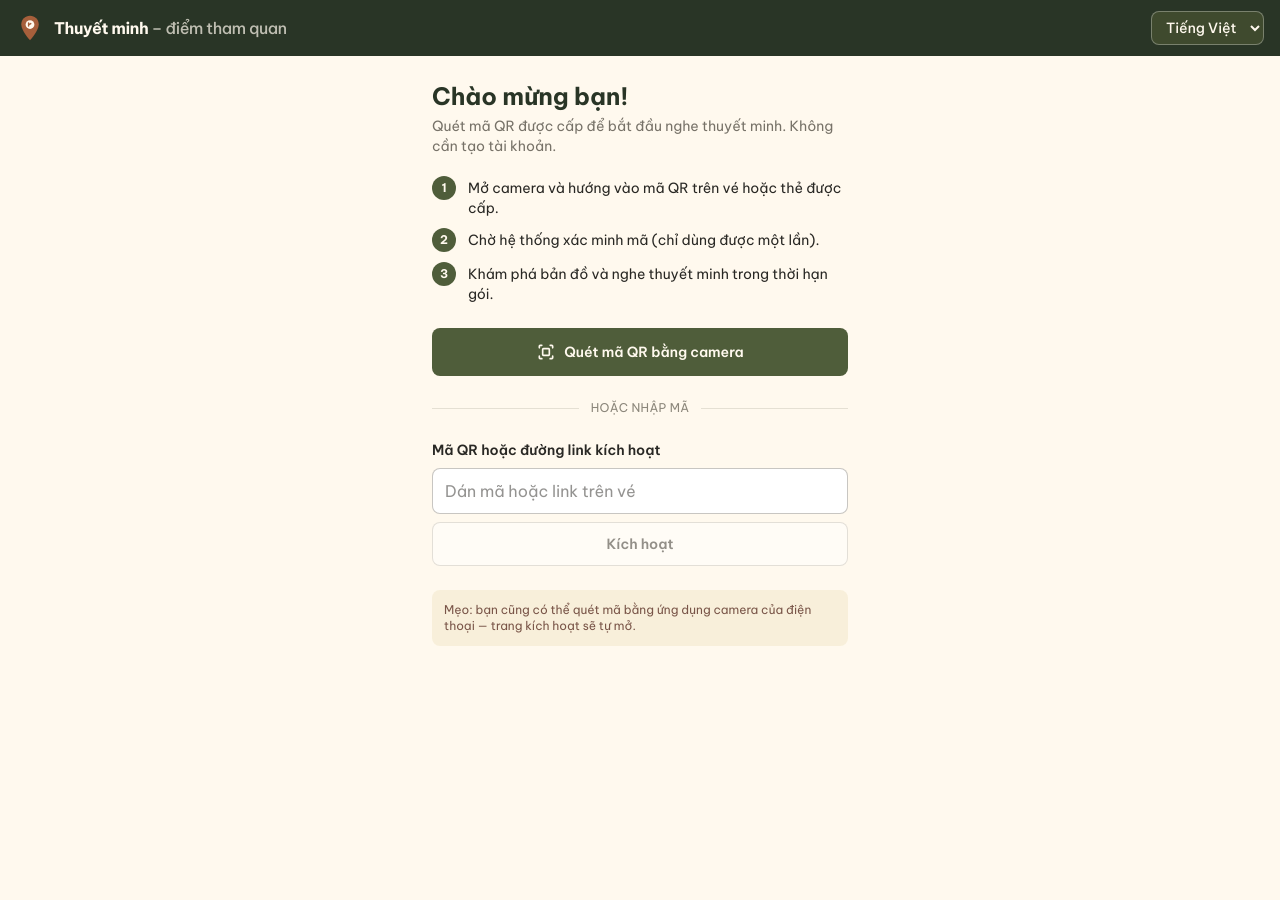
Activation (UC02 steps 3–5) › the header countdown starts at activation, not when the scan screen was opened
Type "DEMO-QR-0003" into the field labelled "Mã QR hoặc đường link kích hoạt" at (640, 491), box [432,468,848,514]
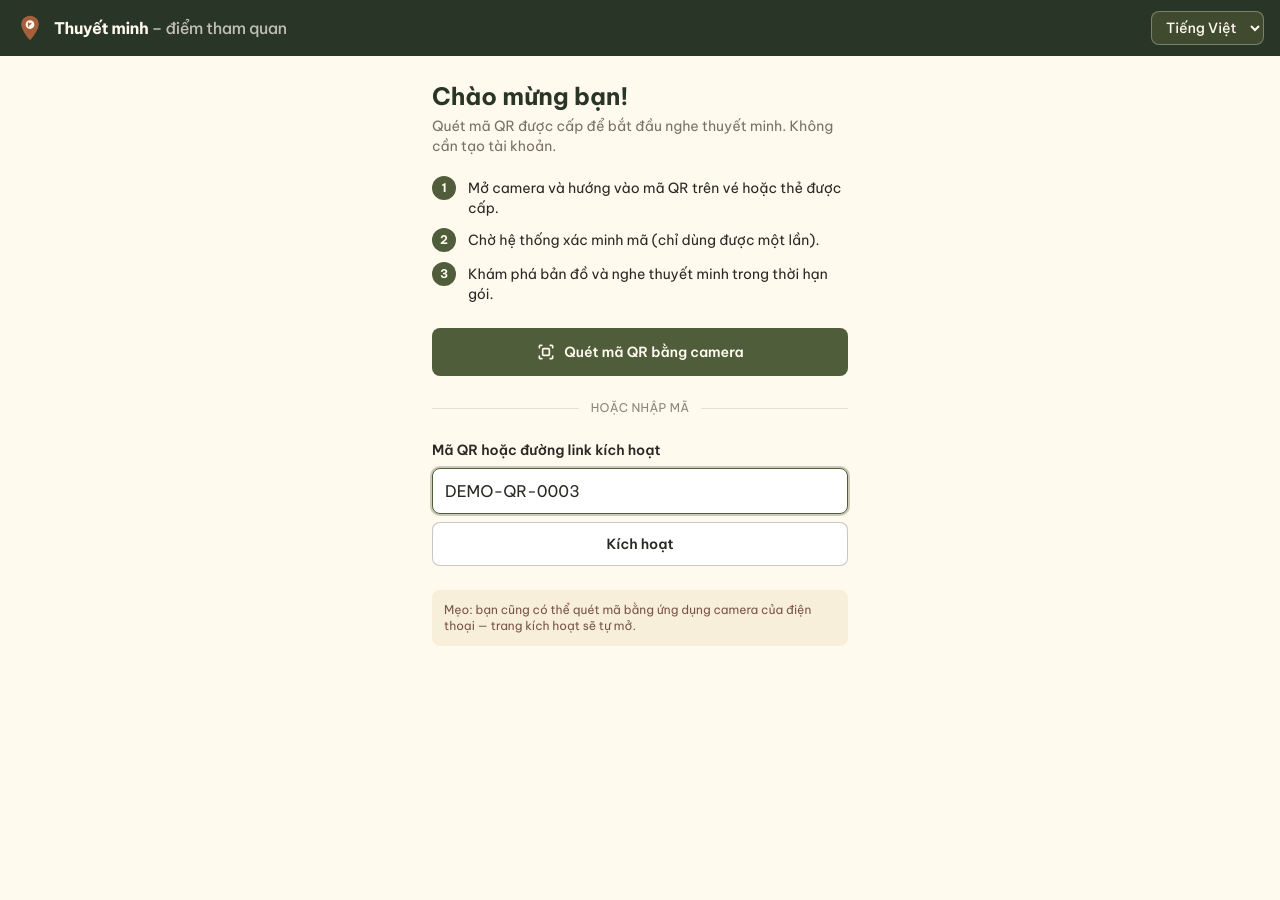
Click the button "Kích hoạt" at (640, 544), box [432,522,848,566]
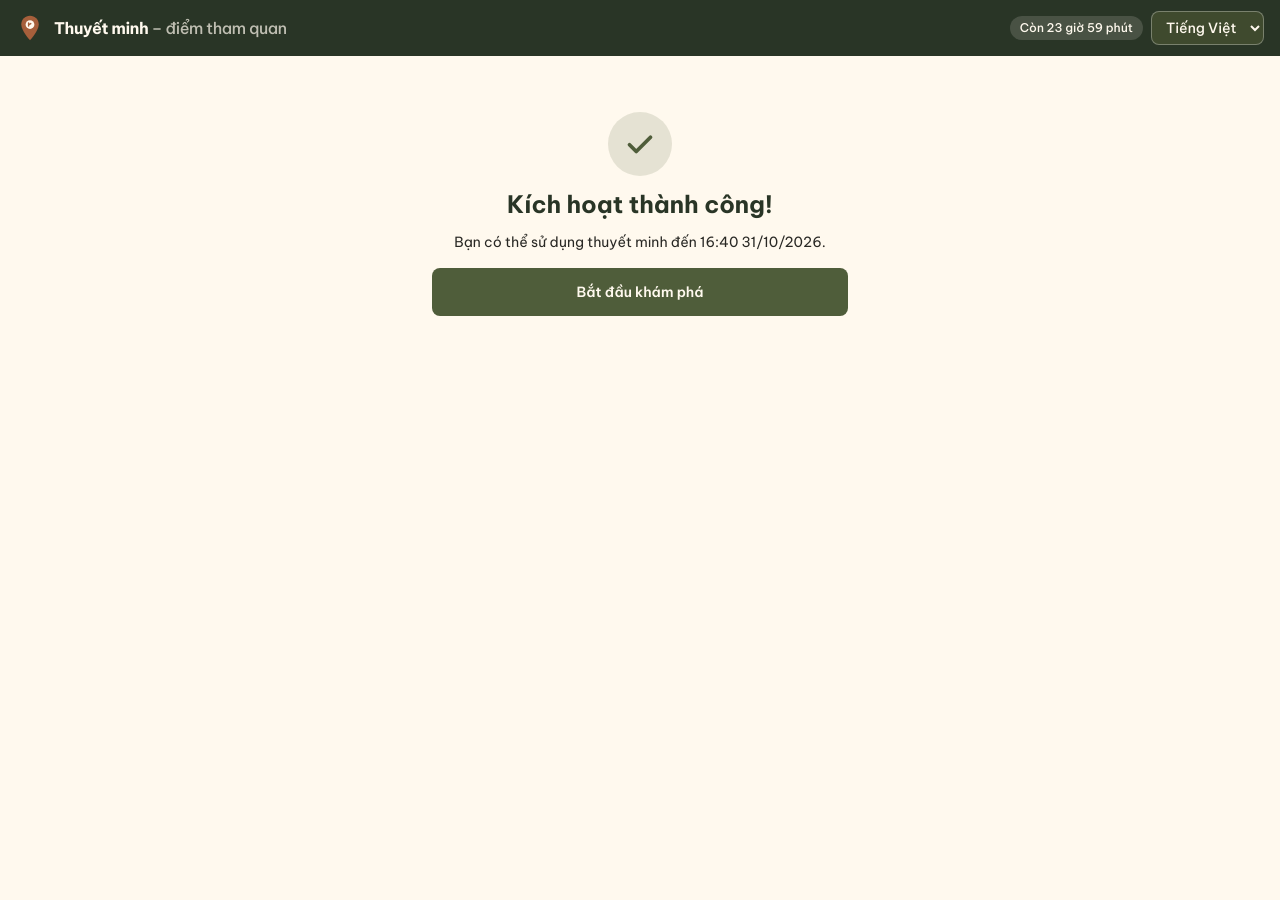
Result: the text "Còn 23 giờ 59 phút" is shown at [1010,16,1143,40]
